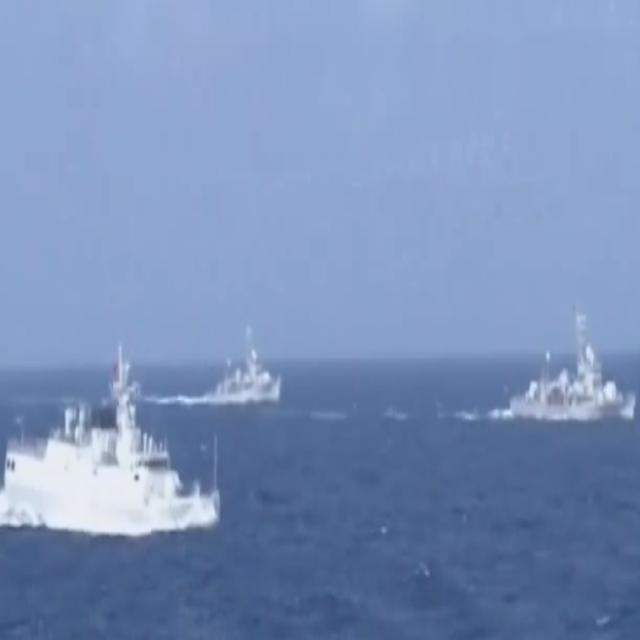navalvessels: (0, 352, 227, 554), (504, 289, 638, 428), (199, 320, 283, 402)
